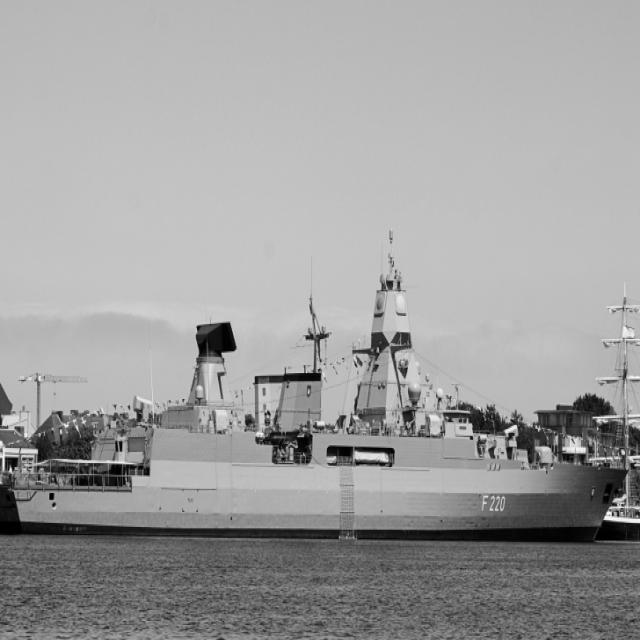Fragata: (1, 235, 634, 540)
